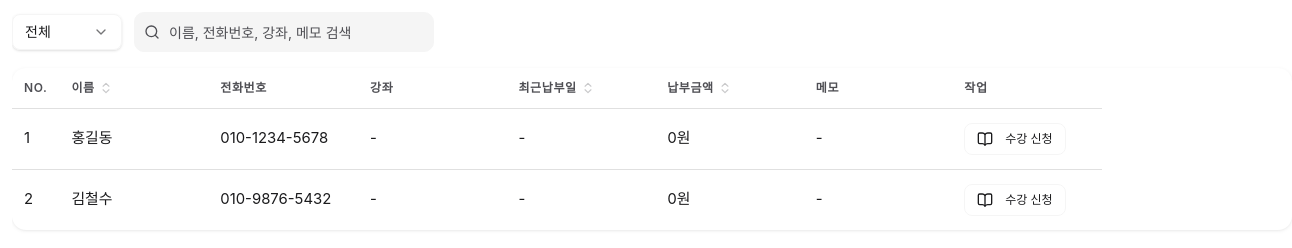
Scenario: StudentList › search input filters students
Type "김철수" into the field with placeholder "이름, 전화번호, 강좌, 메모 검색".
click(284, 32); type("김철수")  # box [134, 12, 434, 52]
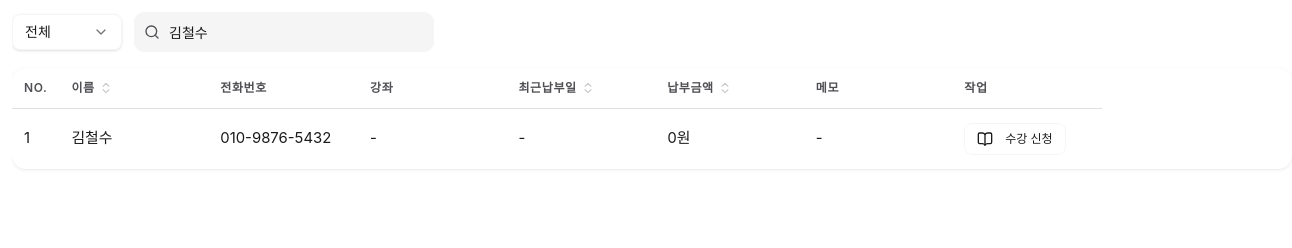
Check: the button "김철수" is shown, box [71, 127, 112, 150]
Check: the button "홍길동" is gone
